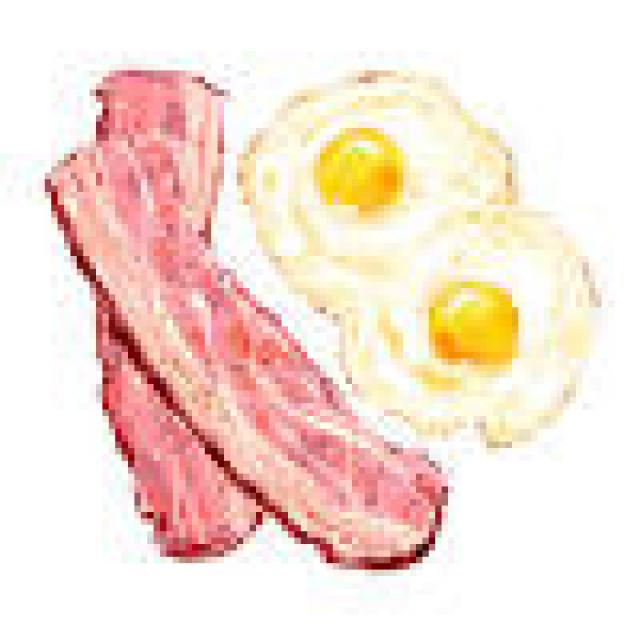bacon: (35, 61, 478, 577)
